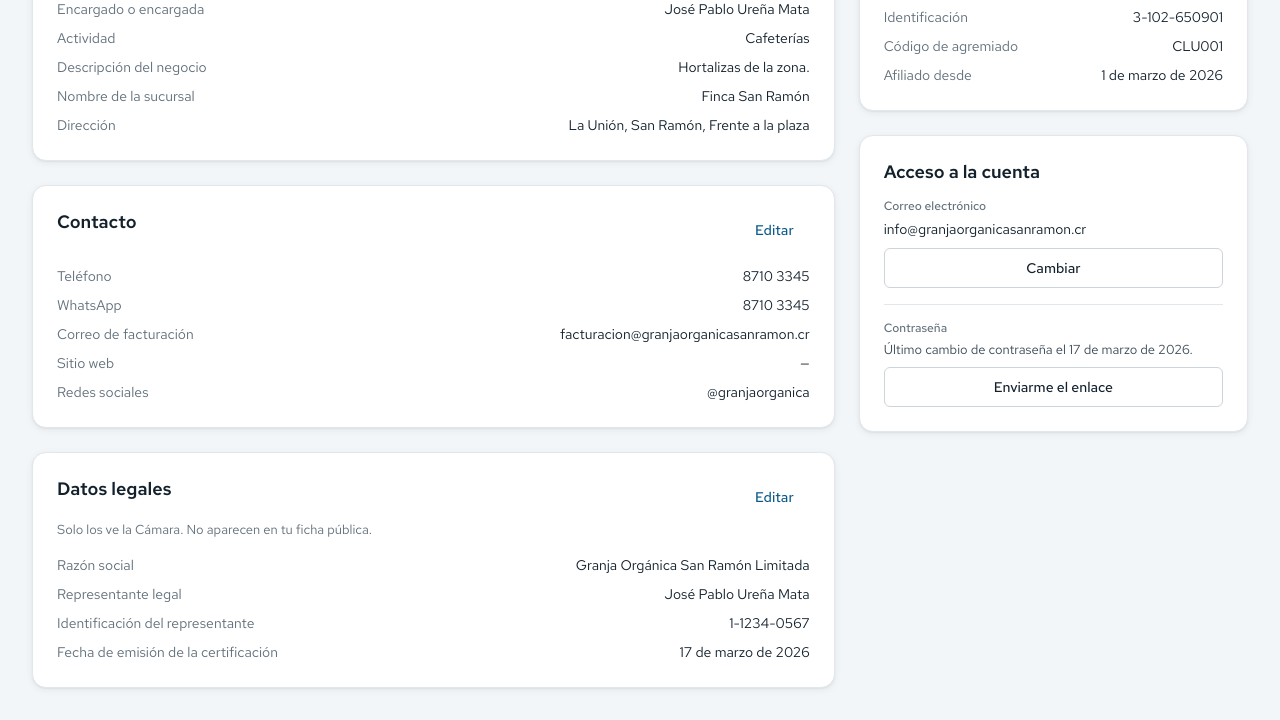
Test: the profile screen › sends the password link to the address of the account
(page scrolled)
Click the button "Enviarme el enlace" at (1053, 387), box [884,367,1223,407]
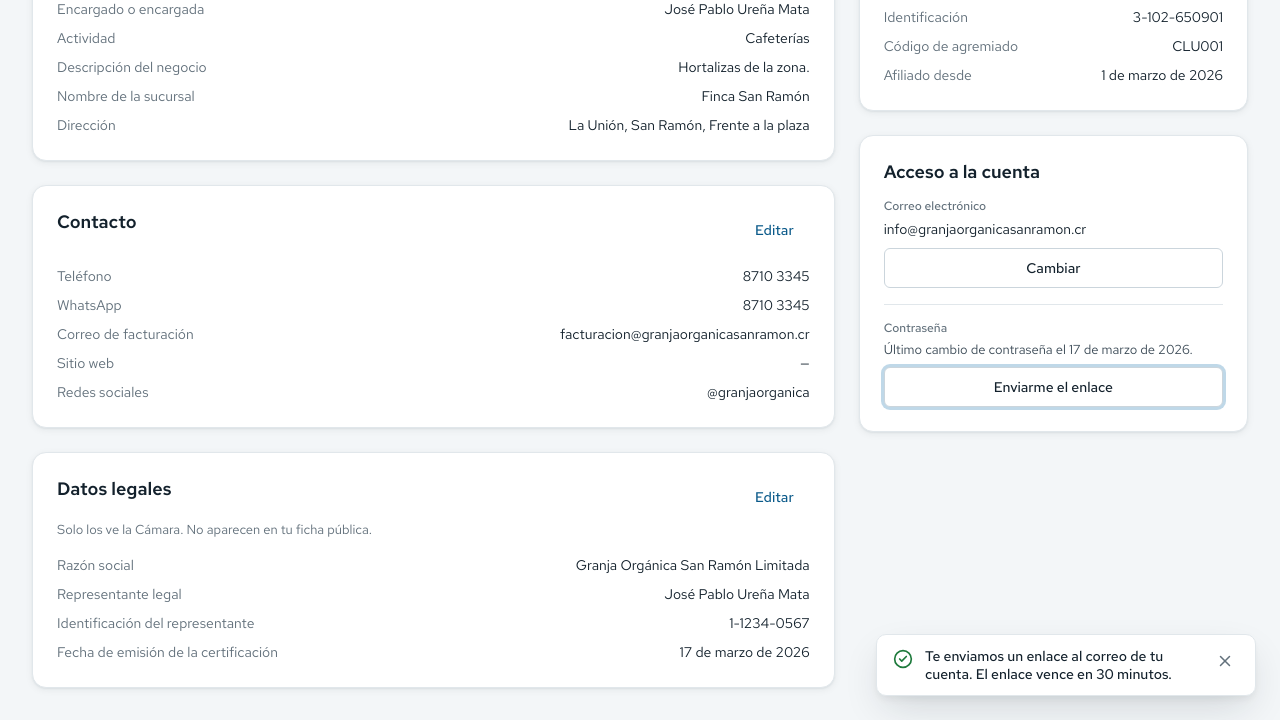
Expected: the text "Te enviamos un enlace al correo de tu cuenta" is shown, [925,647,1172,683]
